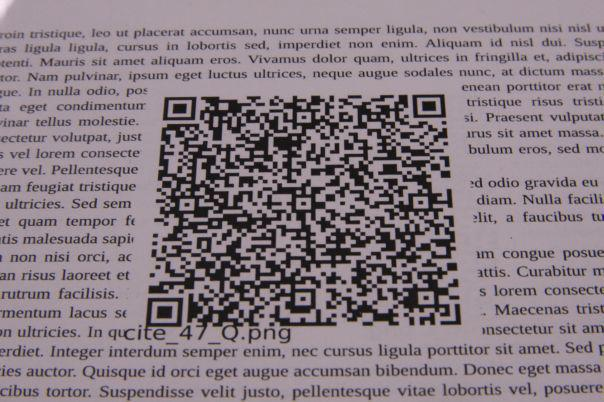Finder pattern: (142, 293, 190, 331), (408, 91, 452, 122), (158, 93, 201, 124)
